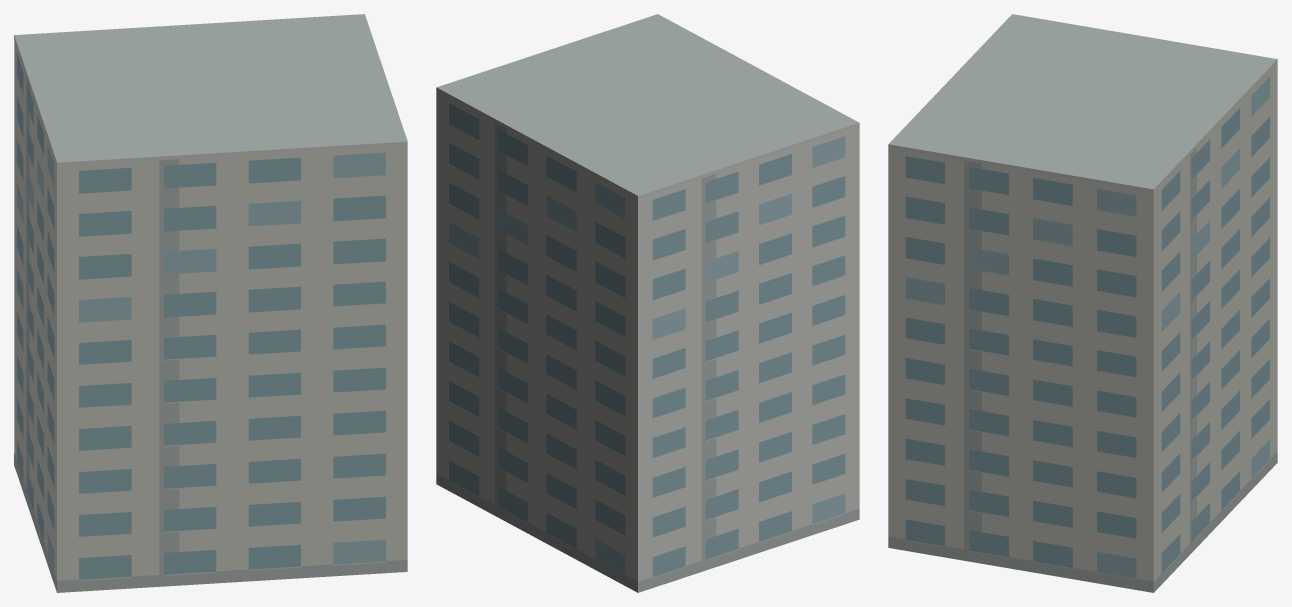
File: residential-49aab95d-511b-4d56-9cb7-3d86d81b019e.glb
The picture shows the model from 3 angles, left to right: view 1: azimuth 30°, elevation 25°; view 2: azimuth 150°, elevation 25°; view 3: azimuth 270°, elevation 25°; orthographic projection. The views are drawn at different scales.
Parts seen in each view (by area): view 1: residential-49aab95d-511b-4d56-9cb7-3d86d81b019e.tmp; view 2: residential-49aab95d-511b-4d56-9cb7-3d86d81b019e.tmp; view 3: residential-49aab95d-511b-4d56-9cb7-3d86d81b019e.tmp.
Part boxes in pixels (box(x1,y1,x2,y2)): residential-49aab95d-511b-4d56-9cb7-3d86d81b019e.tmp: box(14, 14, 407, 592); residential-49aab95d-511b-4d56-9cb7-3d86d81b019e.tmp: box(436, 14, 859, 592); residential-49aab95d-511b-4d56-9cb7-3d86d81b019e.tmp: box(888, 14, 1277, 592).
Size of the model in its own units: 26.11 by 28 by 24.49.
